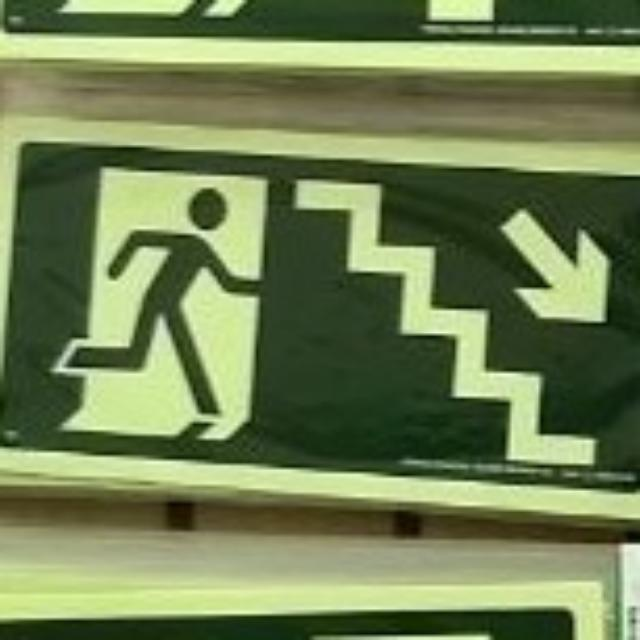exit: (4, 113, 636, 515)
